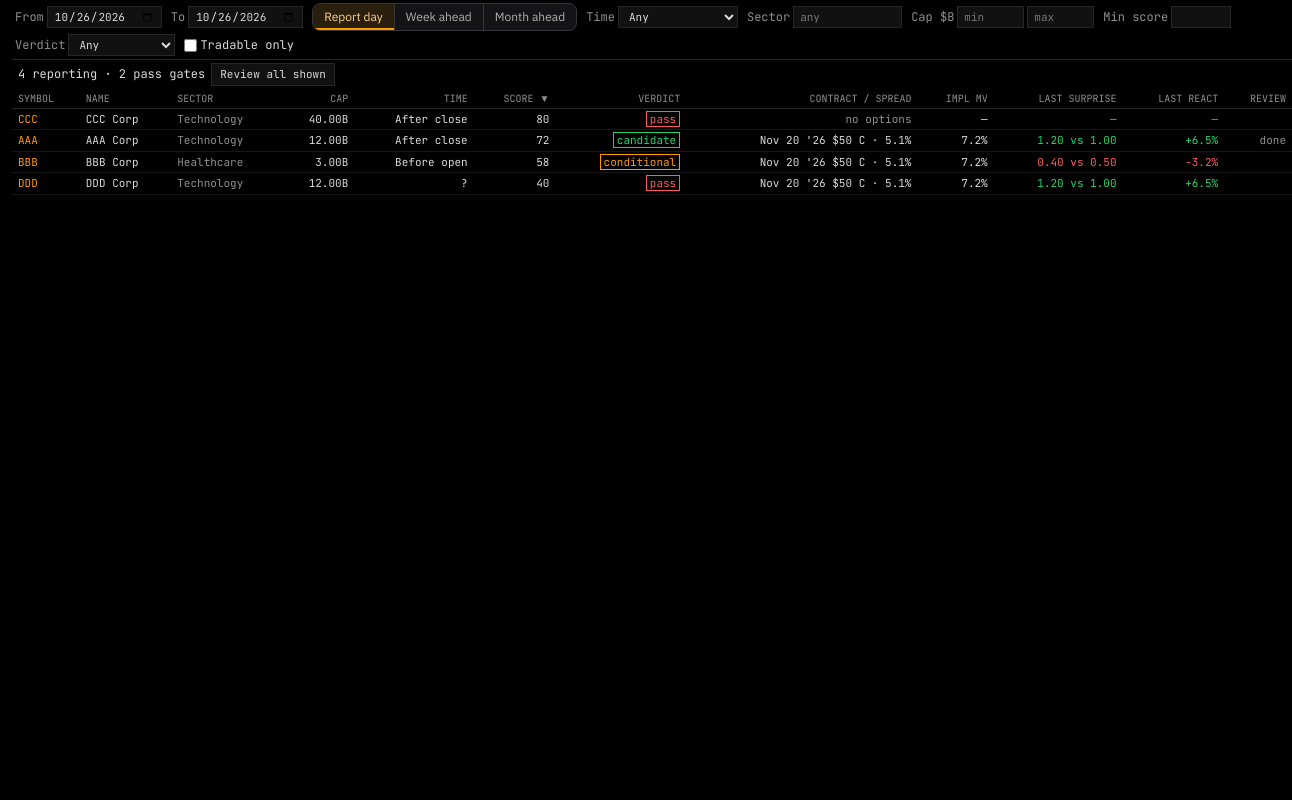
Test case: EarningsTab › shows failed gates and the latest review under the row
Expected: the button "AAA" is shown, x1=18 y1=132 x2=38 y2=148
Click the row with test id "row-AAA" at [652, 140], box x1=12 y1=130 x2=1291 y2=151
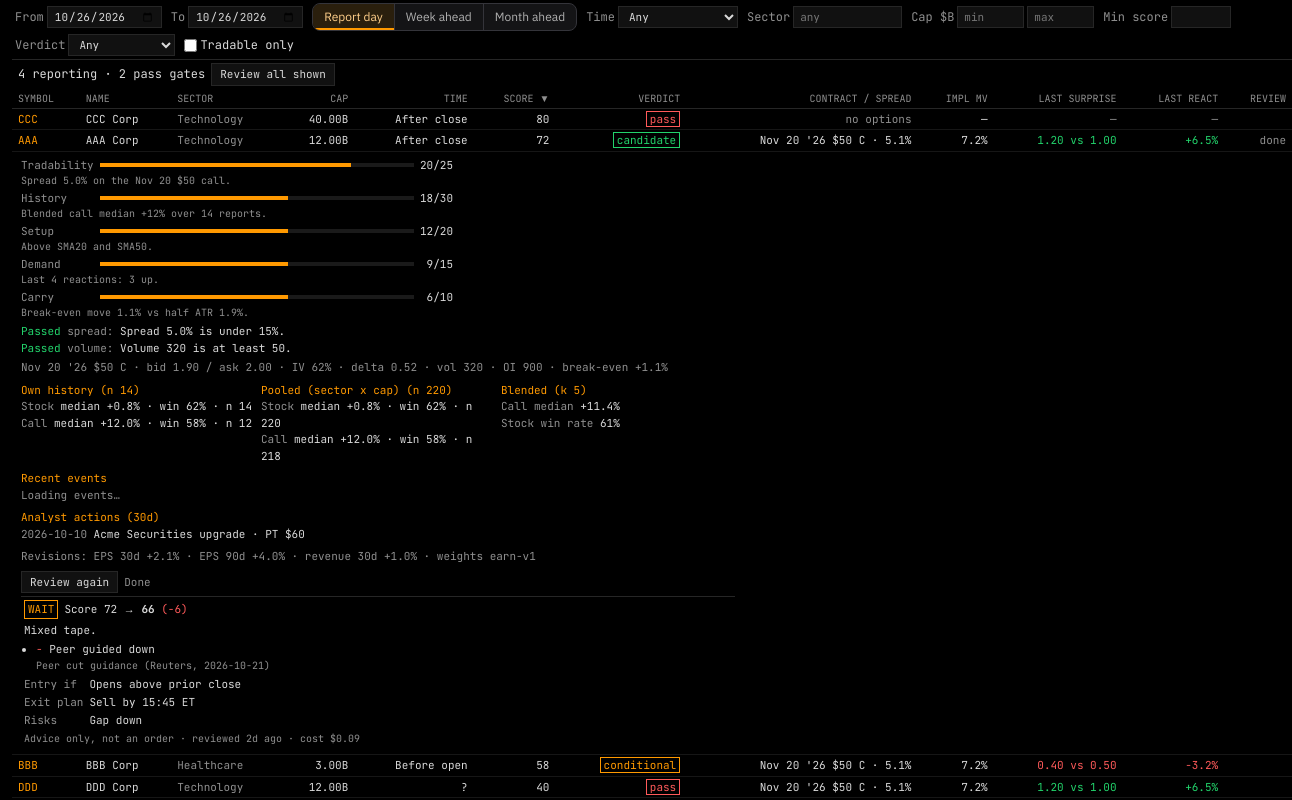
Expected: the text "WAIT" is shown, x1=24 y1=600 x2=58 y2=618
Expected: the text "66" is shown, x1=141 y1=602 x2=155 y2=616
Expected: the text "(-6)" is shown, x1=161 y1=602 x2=188 y2=616
Click the row with test id "row-CCC" at [652, 119], box x1=12 y1=108 x2=1291 y2=130
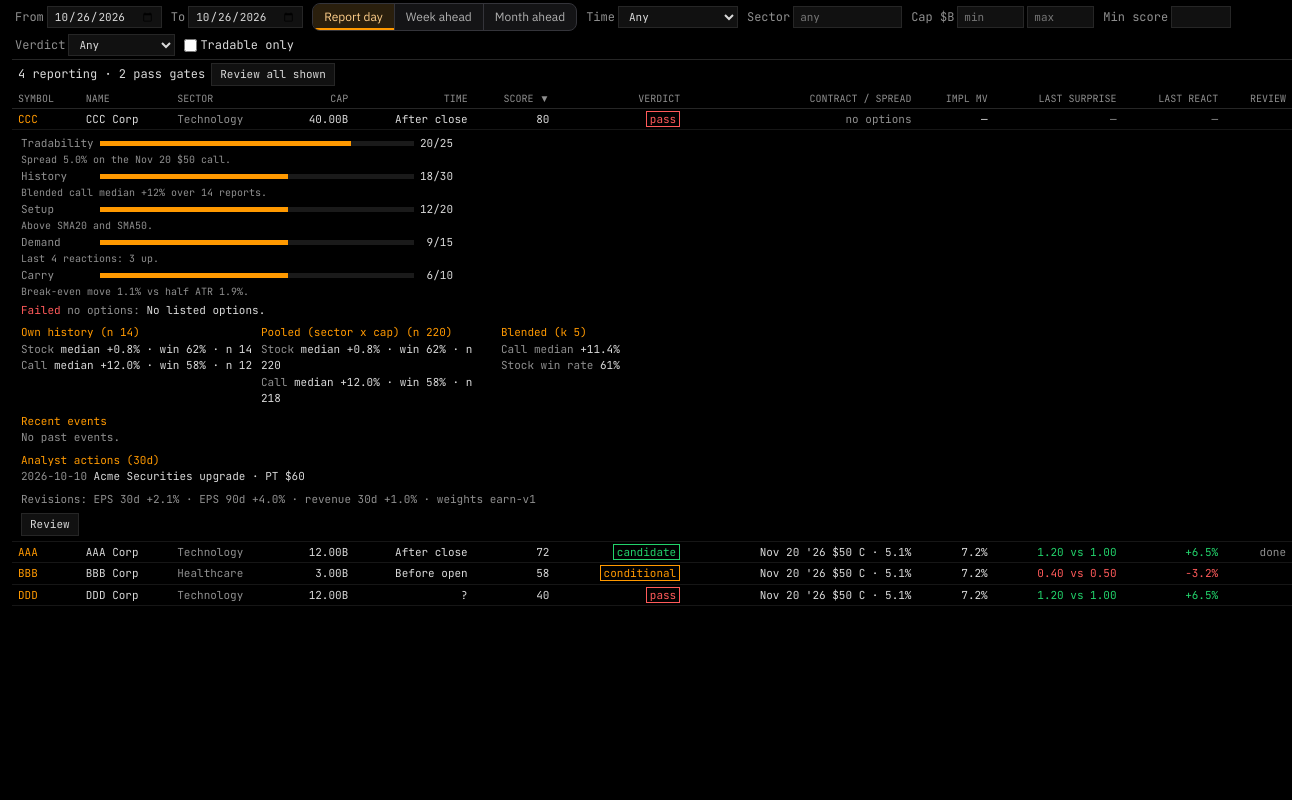
Expected: the element with test id "detail-CCC" shows "Failed", x1=21 y1=302 x2=61 y2=316
